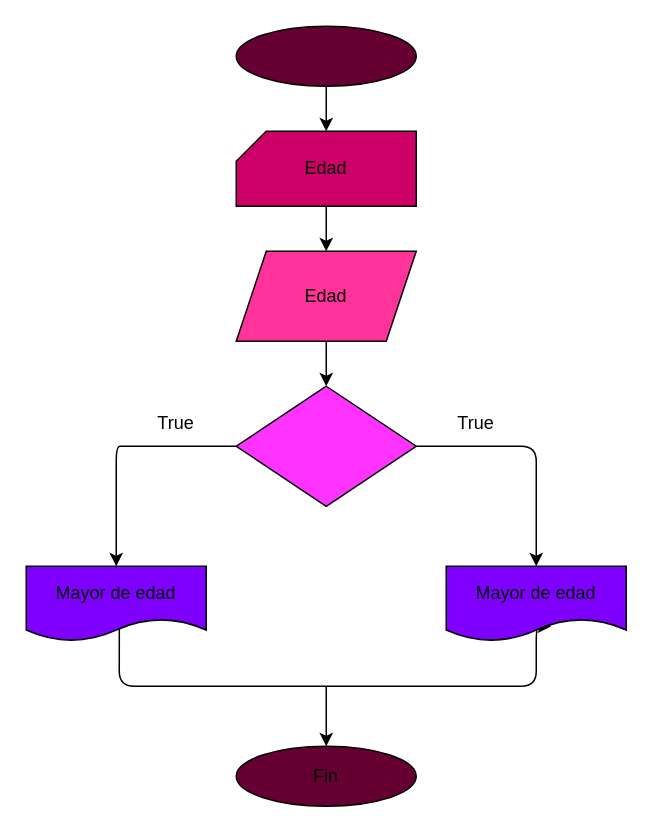
Some shapes in this 653 by 833 pixel diagram are drawn without their labels. The shapes that lost their labels are listed below. From the top down, each one's centre as x and y in pixels, then its label:
At pixel 325 55: "Inicio".
At pixel 325 445: "Edad >=18".
